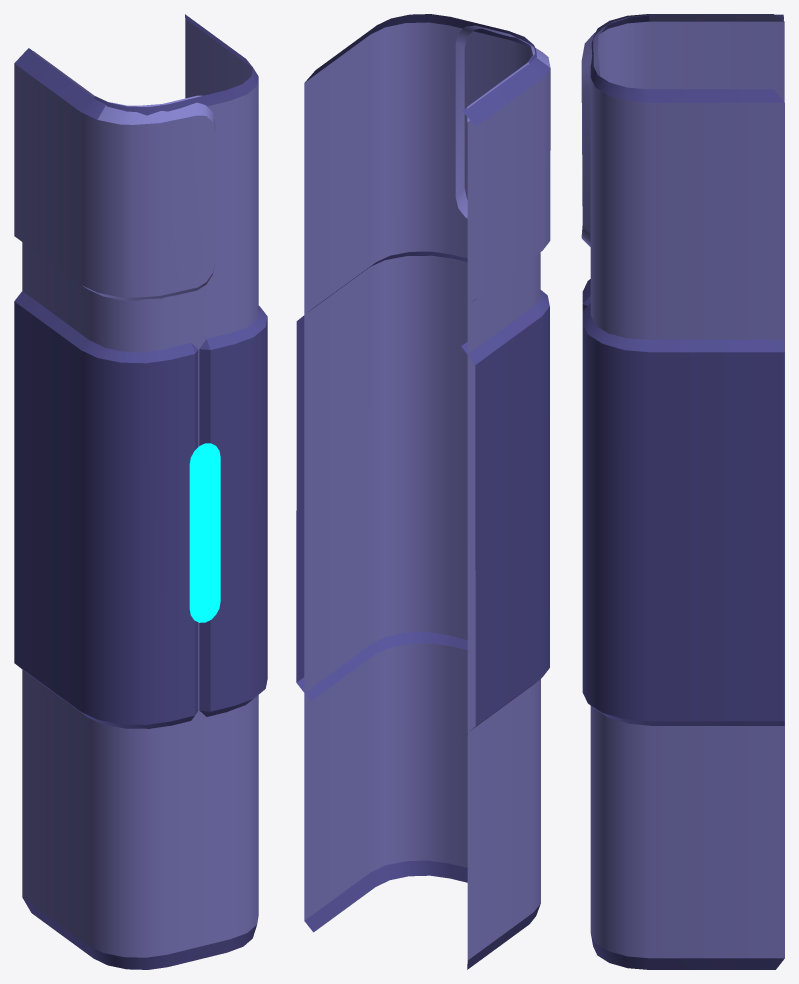
The model's file is wall_medium2.glb.
3 views of the same model, side by side, from view 1: azimuth 30°, elevation 25°; view 2: azimuth 150°, elevation 25°; view 3: azimuth 270°, elevation 25° (orthographic). The views are drawn at different scales.
Parts seen in each view (by area): view 1: Wall_medium; view 2: Wall_medium; view 3: Wall_medium.
Part boxes in pixels (bbox=[...]): Wall_medium: bbox=[14, 14, 267, 969]; Wall_medium: bbox=[296, 14, 550, 969]; Wall_medium: bbox=[581, 14, 784, 969].
Size of the model in its own units: 0.218 by 0.9999 by 0.2119.
1 material, 1 textured.
